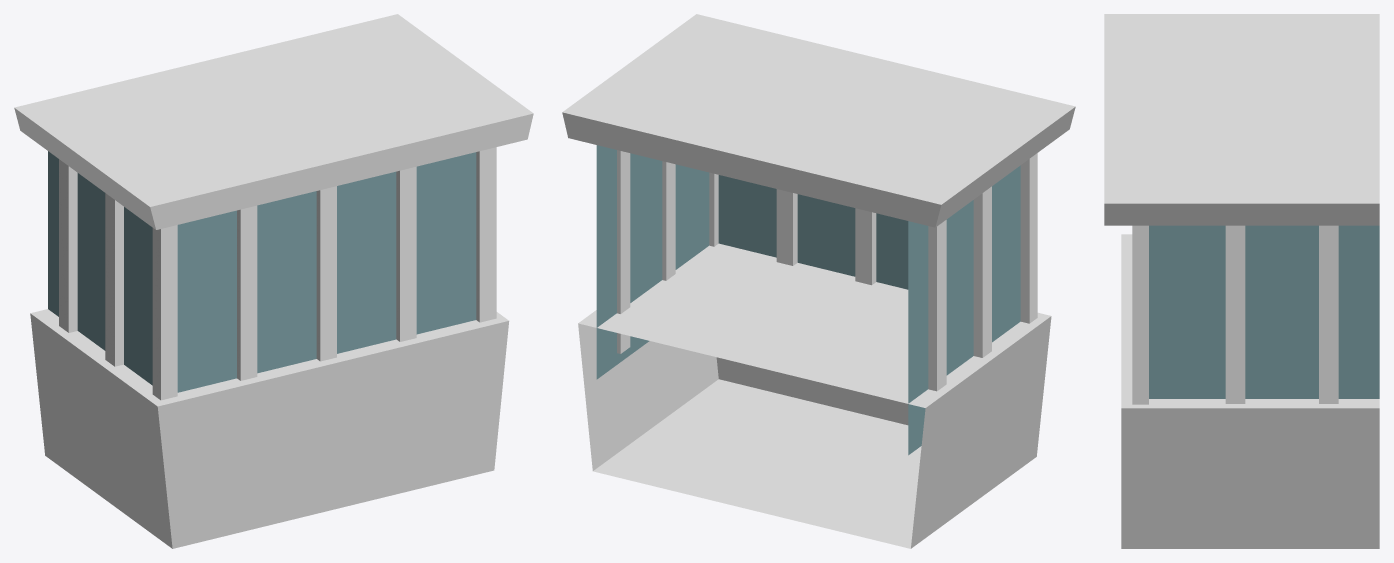
File: House (Balcony 2).fbx
3 renders of one model, left to right at view 1: azimuth 30°, elevation 25°; view 2: azimuth 150°, elevation 25°; view 3: azimuth 270°, elevation 25°, orthographic. The views are drawn at different scales.
Parts seen in each view (by area): view 1: House (Balcony 2); view 2: House (Balcony 2); view 3: House (Balcony 2).
Boxes of the visible parts, x1,y1,x2,y2 form: House (Balcony 2): (14, 14, 533, 548); House (Balcony 2): (562, 14, 1075, 548); House (Balcony 2): (1104, 14, 1379, 548).
Size of the model in its own units: 811 by 719 by 498.
